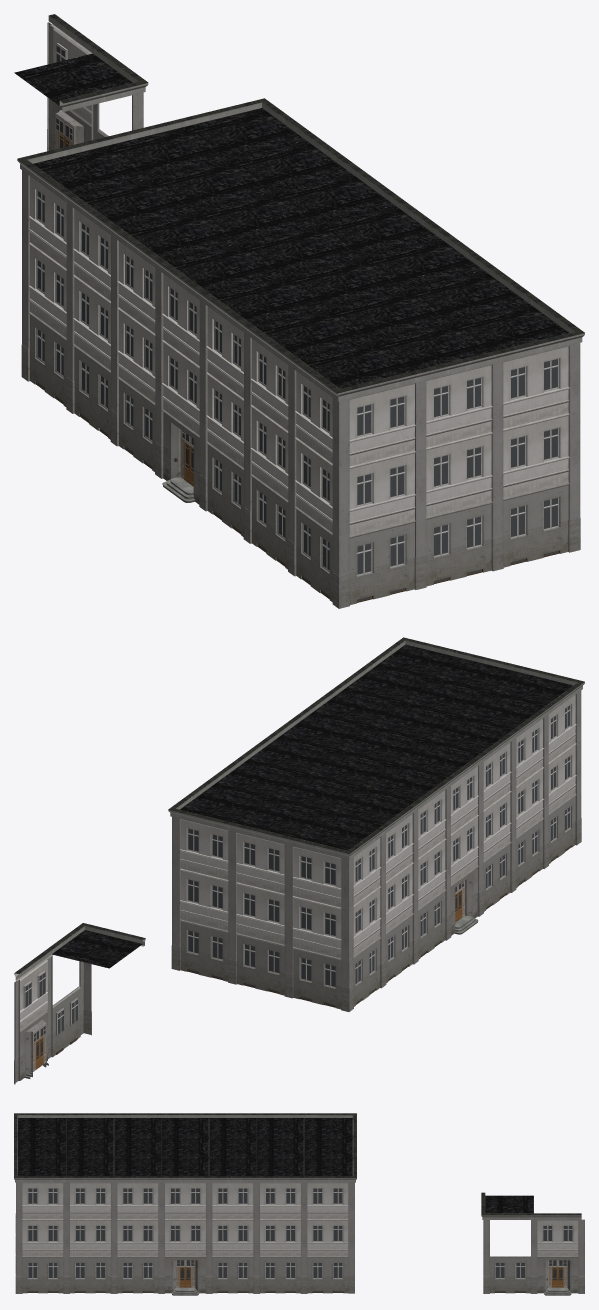
The model's file is bTenement.glb.
3 renders of one model, top to bottom at view 1: azimuth 30°, elevation 25°; view 2: azimuth 150°, elevation 25°; view 3: azimuth 270°, elevation 25°, orthographic. The views are drawn at different scales.
Parts seen in each view (by area): view 1: Object_4; view 2: Object_4; view 3: Object_4.
Boxes of the visible parts, bbox=[...] form: Object_4: bbox=[14, 14, 584, 608]; Object_4: bbox=[14, 637, 584, 1084]; Object_4: bbox=[14, 1113, 584, 1295].
Bounding box in the file's own units: 20.89 × 17 × 75.41.
Materials: 1 (1 with a texture image).
